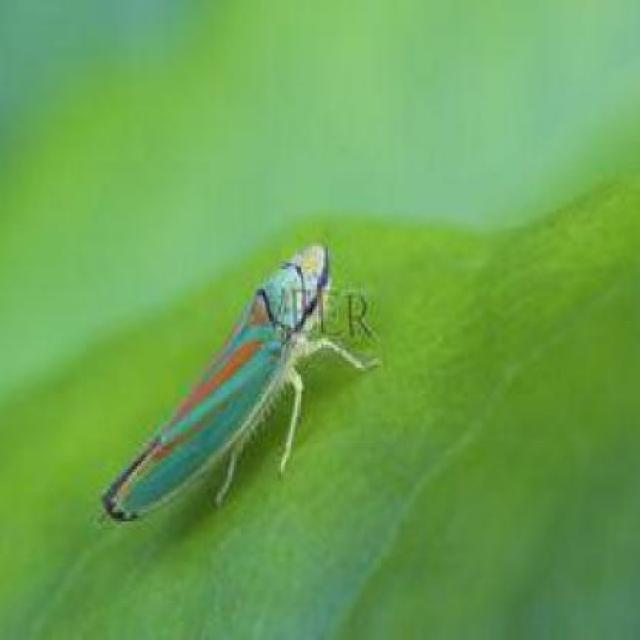green-leafhopper: (104, 233, 350, 524)
